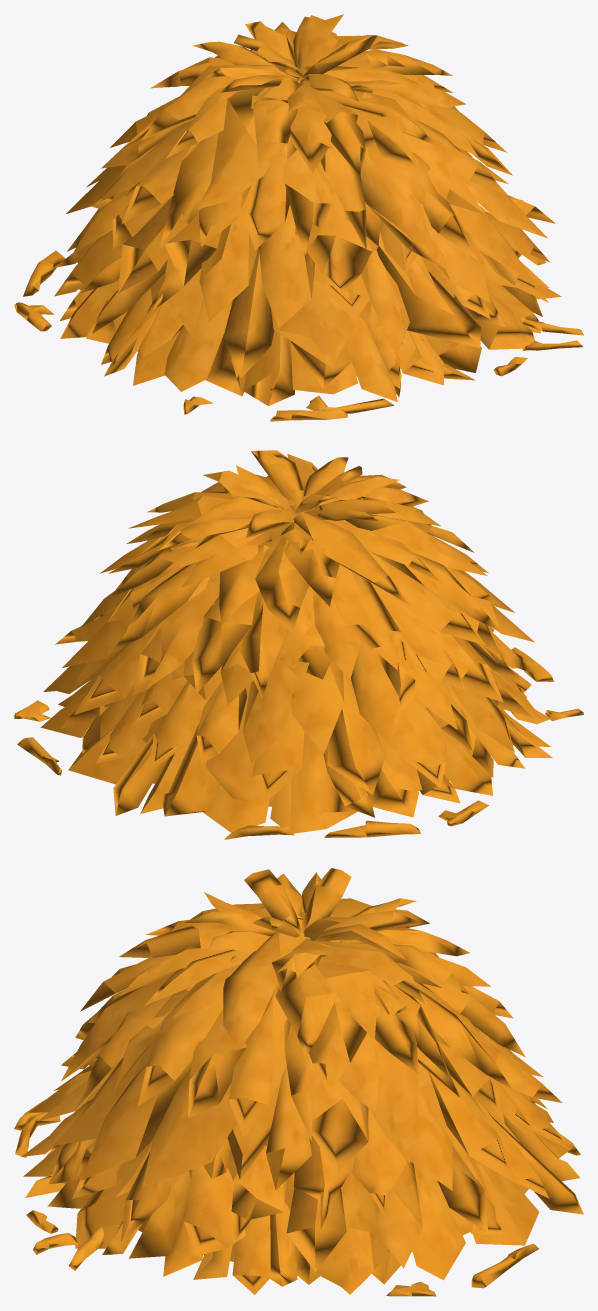
Rendered from haypile.glb.
3 renders of one model, top to bottom at view 1: azimuth 30°, elevation 25°; view 2: azimuth 150°, elevation 25°; view 3: azimuth 270°, elevation 25°, orthographic. The views are drawn at different scales.
Bounding box in the file's own units: 1 × 0.5684 × 1.
Materials: 1 (1 with a texture image).
